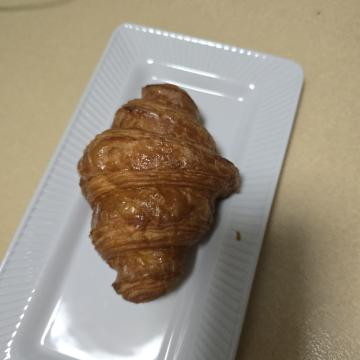croissant: (68, 114, 317, 295)
